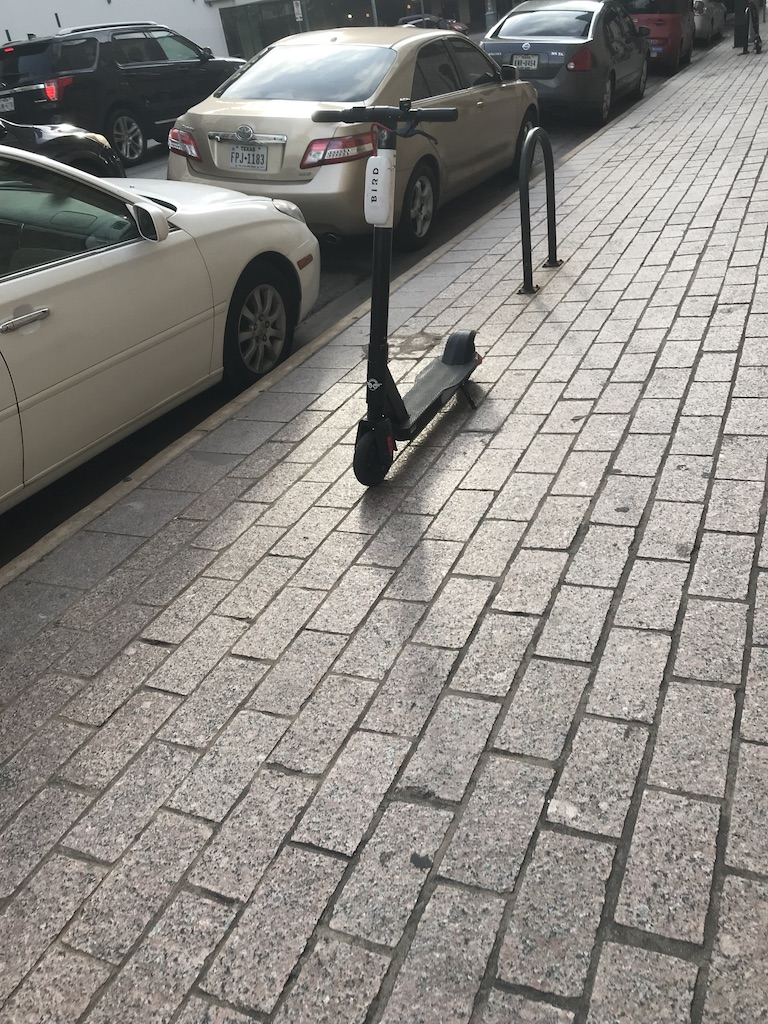scooter: (311, 101, 484, 483)
